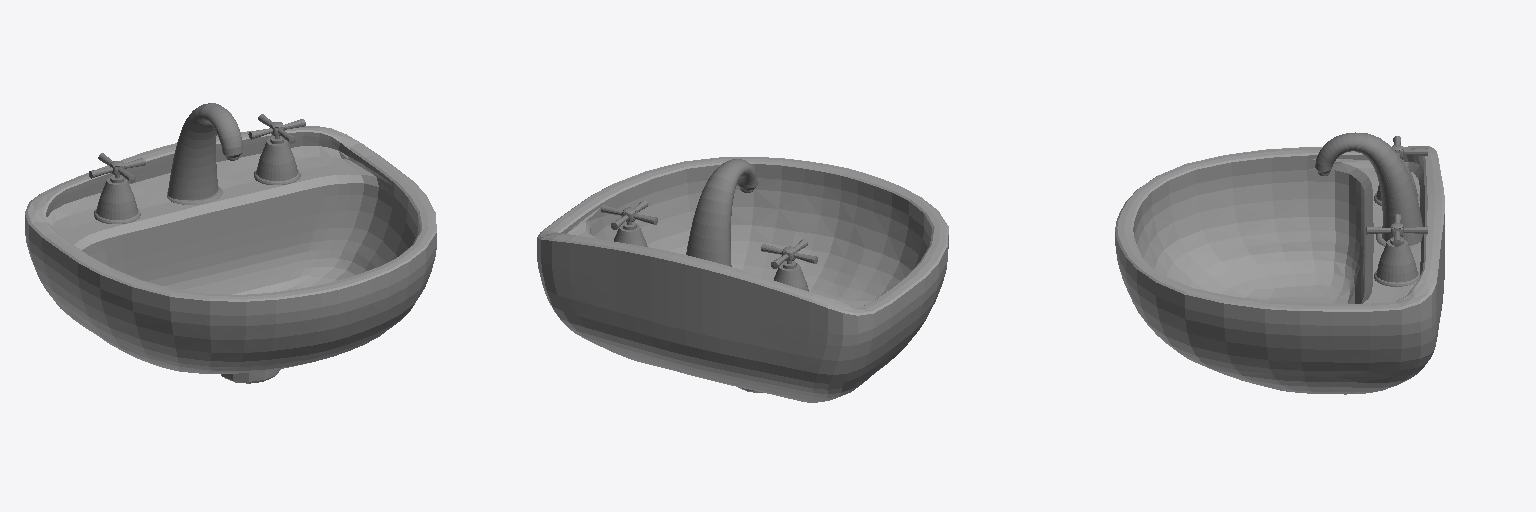
The model's file is Lavatory.obj.
3 views of the same model, side by side, from view 1: azimuth 30°, elevation 25°; view 2: azimuth 150°, elevation 25°; view 3: azimuth 270°, elevation 25° (orthographic).
Visible parts, largest first — view 1: Lavatory_Lavatorio, Key01_Canilla1; view 2: Lavatory_Lavatorio, Key01_Canilla1; view 3: Lavatory_Lavatorio, Key01_Canilla1.
Part boxes in pixels (x1,y1,x2,y2): Lavatory_Lavatorio: (25, 126, 436, 383); Key01_Canilla1: (89, 103, 305, 223); Lavatory_Lavatorio: (537, 157, 948, 402); Key01_Canilla1: (601, 159, 817, 291); Lavatory_Lavatorio: (1115, 146, 1444, 394); Key01_Canilla1: (1315, 132, 1427, 286).
Size of the model in its own units: 3.83 by 2.64 by 3.25.